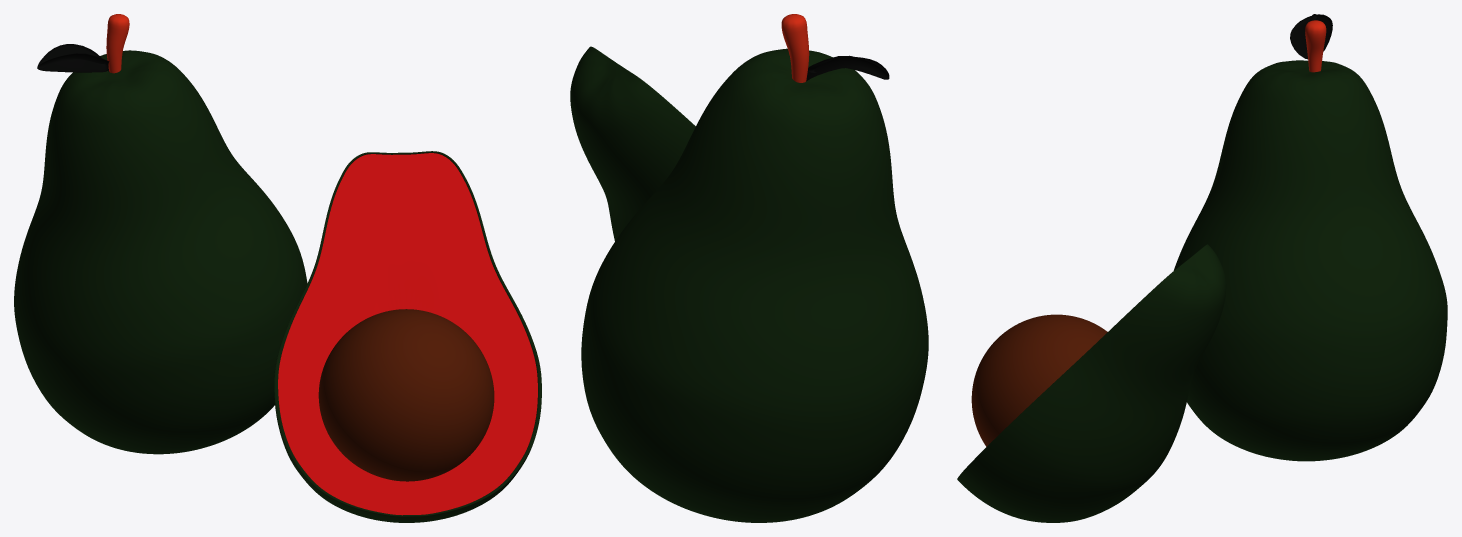
File: abacate.obj
The picture shows the model from 3 angles, left to right: view 1: azimuth 30°, elevation 25°; view 2: azimuth 150°, elevation 25°; view 3: azimuth 270°, elevation 25°; orthographic projection. The views are drawn at different scales.
Parts seen in each view (by area): view 1: avocado_full, avocado_full.001, Sphere.095, avocado_full.002, daun.003, Cylinder.010; view 2: avocado_full, avocado_full.002, Cylinder.010, daun.003; view 3: avocado_full, avocado_full.002, Sphere.095, Cylinder.010, daun.003.
Part boxes in pixels (bbox=[...]): avocado_full: bbox=[14, 50, 307, 454]; avocado_full.001: bbox=[278, 153, 537, 515]; Sphere.095: bbox=[318, 309, 494, 481]; avocado_full.002: bbox=[274, 151, 541, 522]; daun.003: bbox=[37, 44, 109, 72]; Cylinder.010: bbox=[106, 14, 129, 73]; avocado_full: bbox=[581, 48, 928, 522]; avocado_full.002: bbox=[570, 46, 695, 240]; Cylinder.010: bbox=[781, 14, 809, 82]; daun.003: bbox=[806, 55, 889, 81]; avocado_full: bbox=[1173, 60, 1447, 461]; avocado_full.002: bbox=[957, 244, 1226, 522]; Sphere.095: bbox=[971, 314, 1107, 446]; Cylinder.010: bbox=[1305, 20, 1326, 72]; daun.003: bbox=[1290, 14, 1332, 59].
Size of the model in its own units: 4.76 by 5.52 by 5.88.
